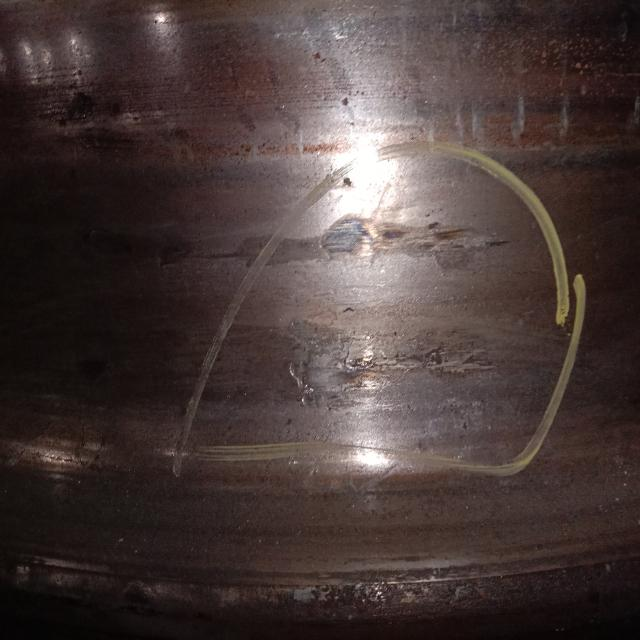Blue hole: (266, 308, 513, 439)
flat: (316, 211, 520, 290)
